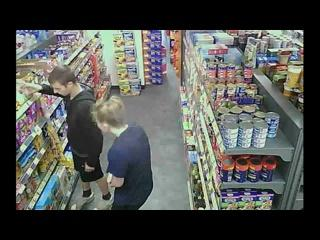Normal: (21, 65, 112, 208), (96, 96, 154, 210)
